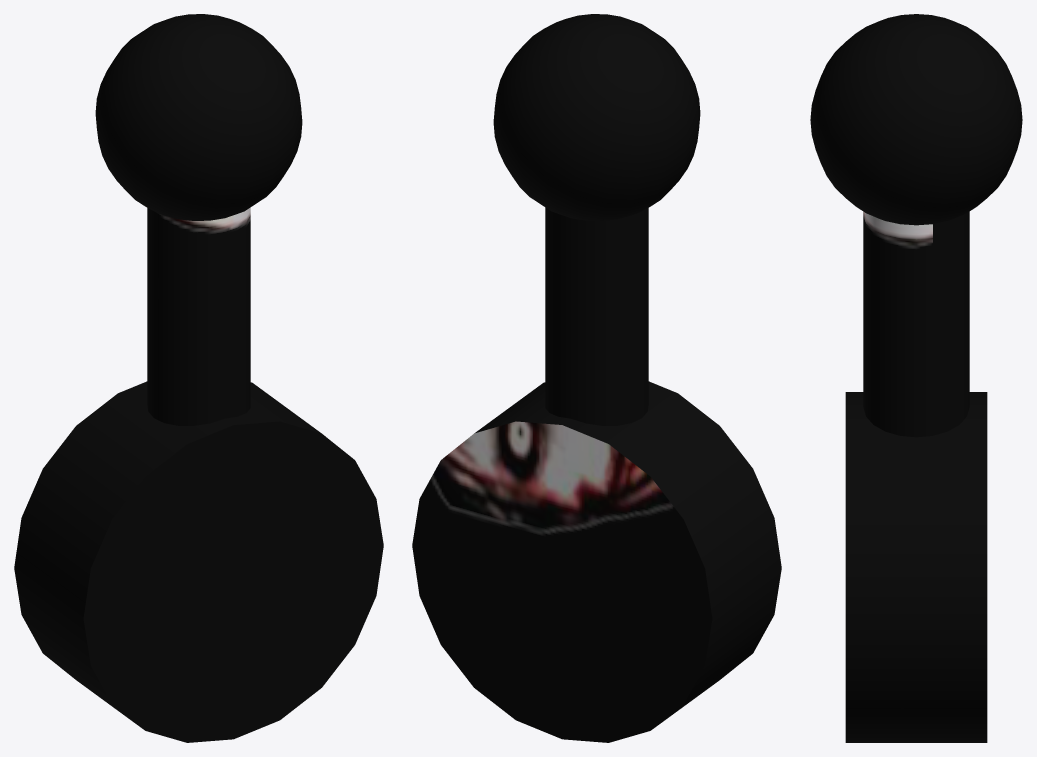
File: PuzzleLever.obj
3 views of the same model, side by side, from view 1: azimuth 30°, elevation 25°; view 2: azimuth 150°, elevation 25°; view 3: azimuth 270°, elevation 25° (orthographic).
Parts seen in each view (by area): view 1: pCylinder1, pSphere1, pCylinder2; view 2: pCylinder1, pSphere1, pCylinder2; view 3: pCylinder1, pSphere1, pCylinder2.
Boxes of the visible parts, <box> form: pCylinder1: <box>14,381,383,742</box>; pSphere1: <box>95,14,302,220</box>; pCylinder2: <box>147,207,250,425</box>; pCylinder1: <box>412,381,781,742</box>; pSphere1: <box>493,14,700,220</box>; pCylinder2: <box>545,207,648,425</box>; pCylinder1: <box>845,392,987,742</box>; pSphere1: <box>810,14,1022,225</box>; pCylinder2: <box>863,211,969,437</box>.
Size of the model in its own units: 2 by 4.39 by 1.2.
